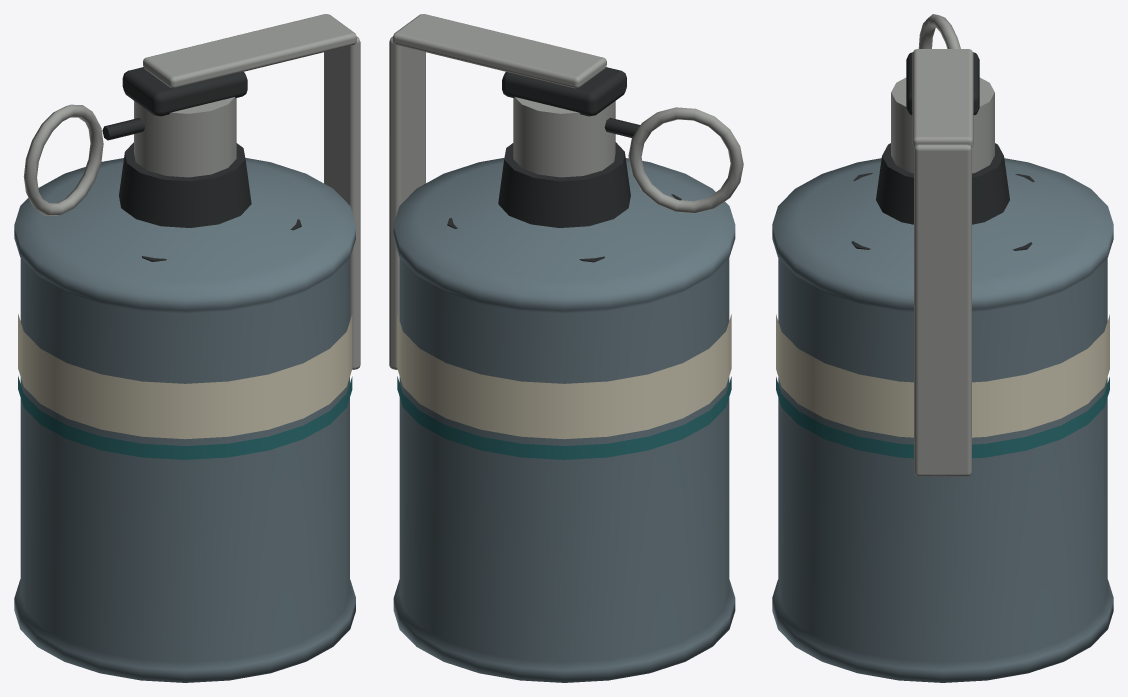
3 renders of one model, left to right at view 1: azimuth 30°, elevation 25°; view 2: azimuth 150°, elevation 25°; view 3: azimuth 270°, elevation 25°, orthographic.
Visible parts, largest first — view 1: paint-slate, steel, paint-ivory, steel-dark, paint-teal; view 2: paint-slate, steel, paint-ivory, steel-dark, paint-teal; view 3: paint-slate, steel, paint-ivory, steel-dark, paint-teal.
Part boxes in pixels (x1=…): paint-slate: x1=14, y1=158, x2=355, y2=682; steel: x1=23, y1=14, x2=360, y2=369; paint-ivory: x1=18, y1=314, x2=352, y2=439; steel-dark: x1=102, y1=67, x2=301, y2=261; paint-teal: x1=18, y1=376, x2=352, y2=459; paint-slate: x1=393, y1=158, x2=735, y2=682; steel: x1=389, y1=14, x2=743, y2=369; paint-ivory: x1=397, y1=314, x2=731, y2=439; steel-dark: x1=447, y1=67, x2=681, y2=262; paint-teal: x1=397, y1=376, x2=731, y2=459; paint-slate: x1=772, y1=158, x2=1113, y2=682; steel: x1=891, y1=14, x2=994, y2=476; paint-ivory: x1=776, y1=314, x2=1109, y2=437; steel-dark: x1=851, y1=52, x2=1034, y2=250; paint-teal: x1=776, y1=377, x2=1109, y2=458.
Size of the model in its own units: 0.6282 by 1.01 by 0.56.
